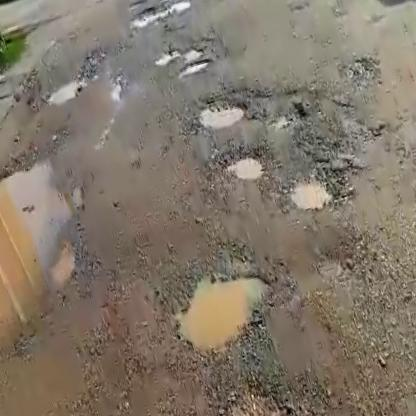pothole: (0, 157, 110, 380), (161, 251, 290, 363), (200, 379, 334, 416), (280, 161, 350, 216), (209, 140, 269, 188), (191, 89, 249, 136), (129, 0, 185, 28), (41, 77, 89, 107), (180, 51, 220, 79)
